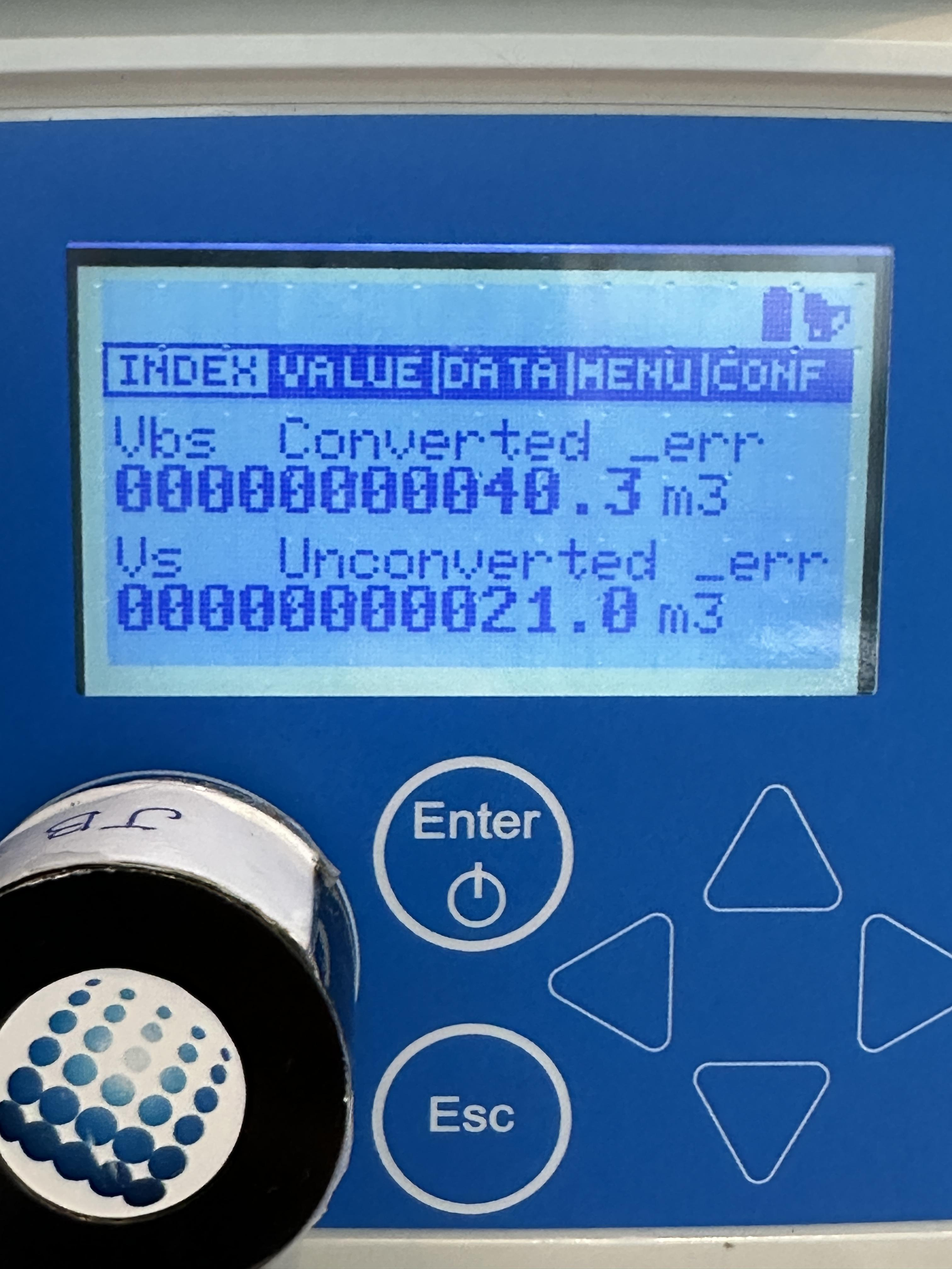digital_screen: (76, 266, 875, 697)
